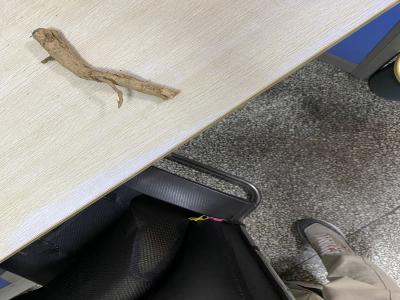Root: (32, 28, 180, 108)
